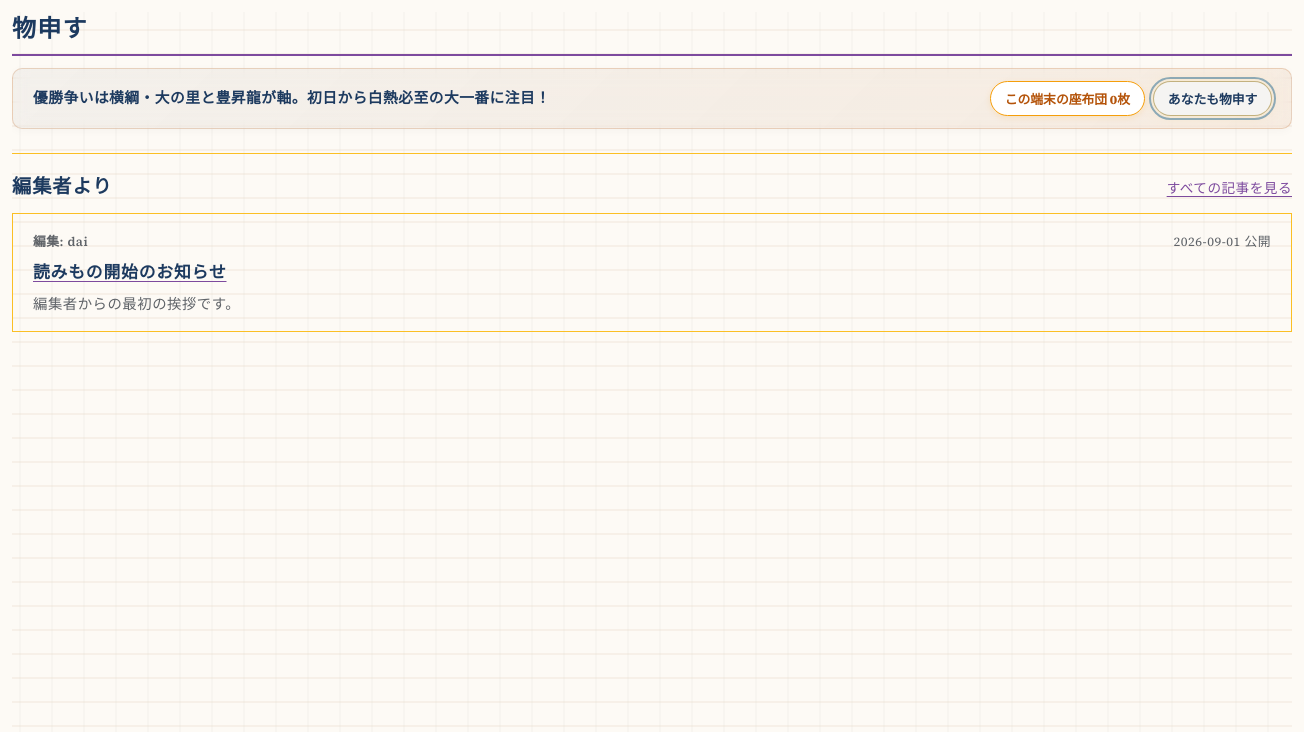
MonomosuSection › connects the disclosure, visible textarea label, and writing hint
Expected: the field labelled "あなたのひとこと" is not shown
Press Enter
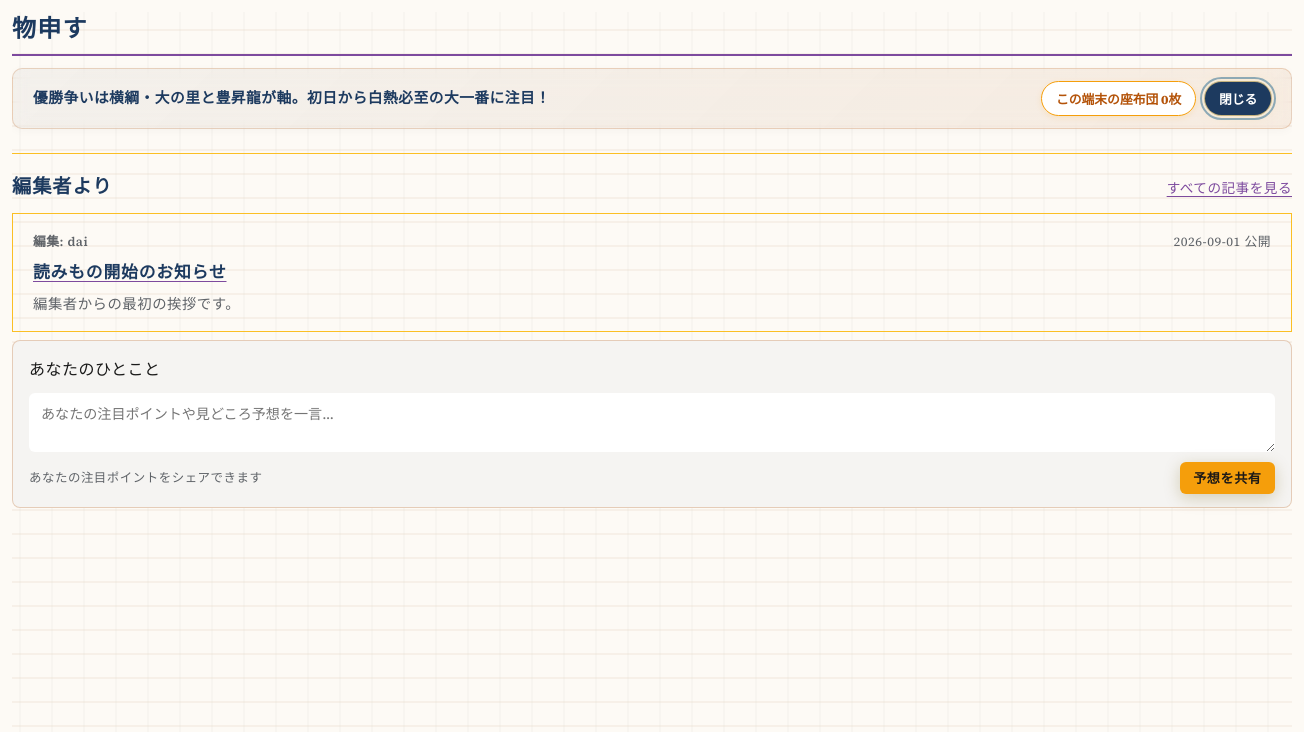
Expected: the text with id "daily-monomosu-hint" shows "注目ポイントをシェア", [29, 469, 262, 486]
In the text box labelled "あなたのひとこと": coordinates (652, 423) [29, 393, 1275, 452], type "結びの一番に注目"
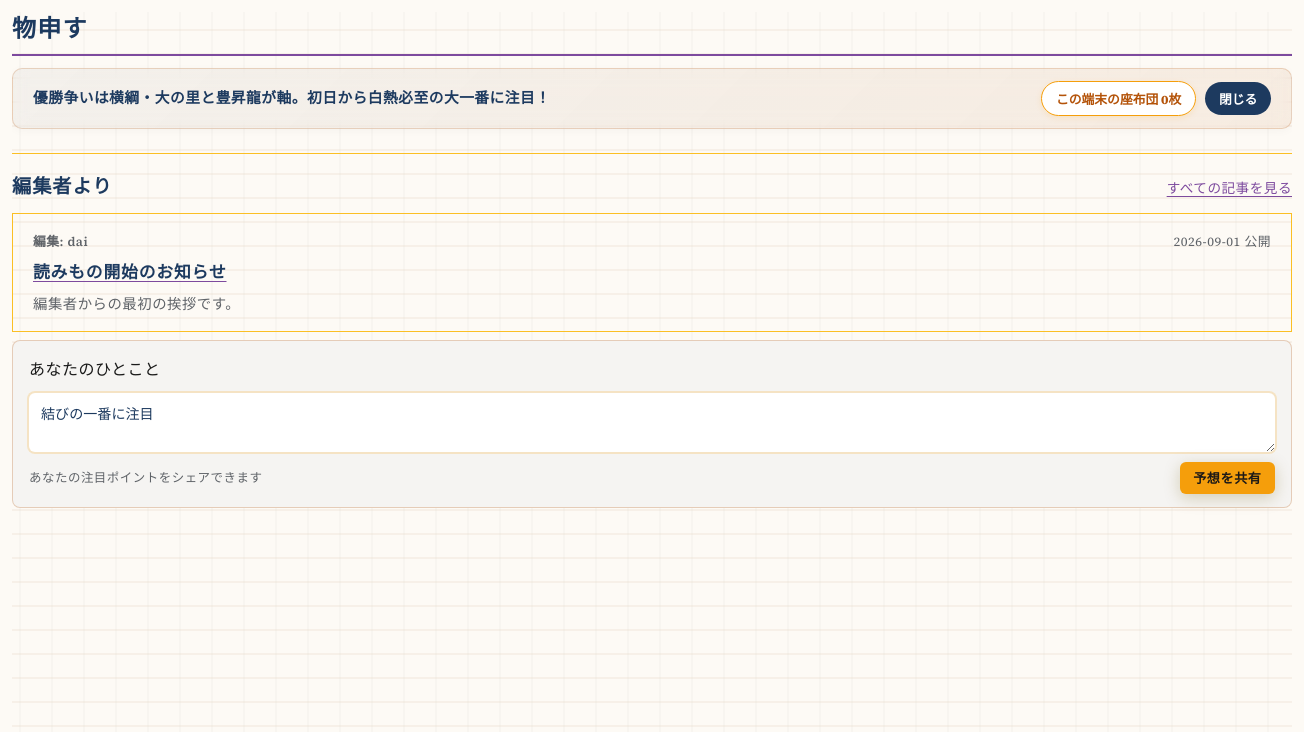
Press Tab
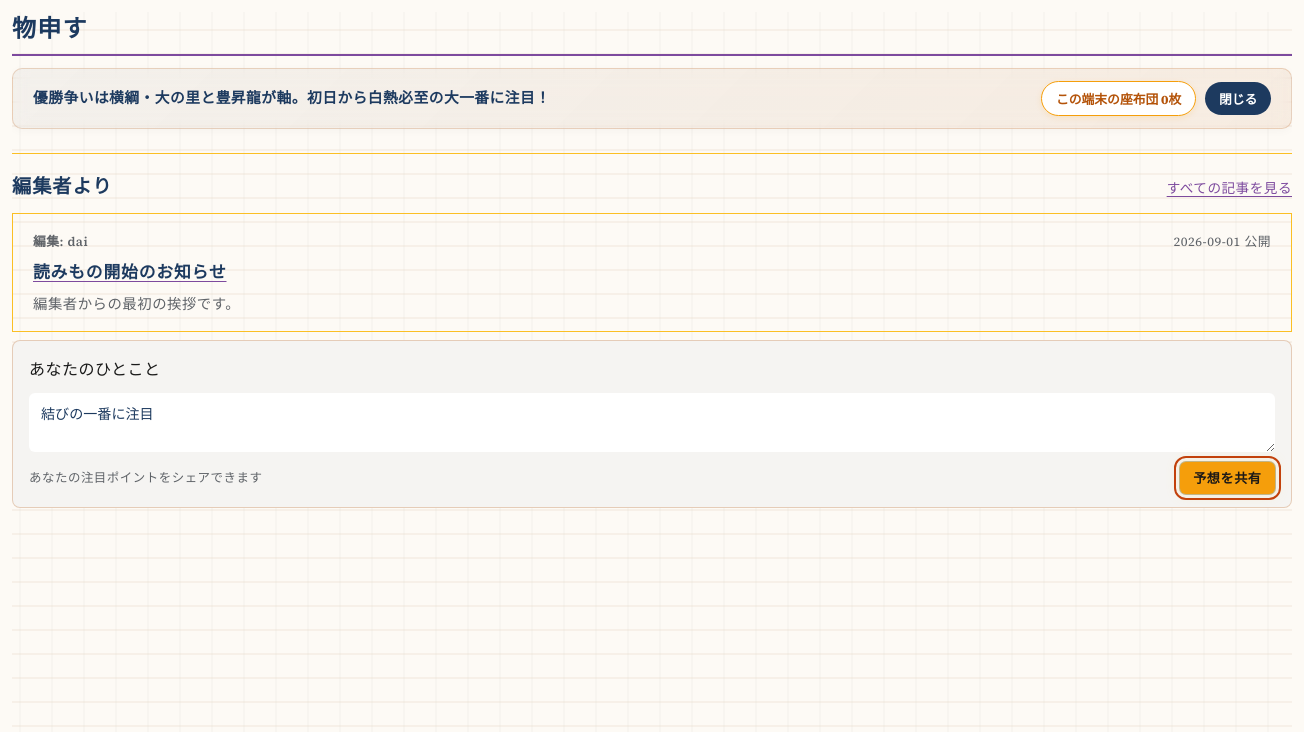
Press Enter
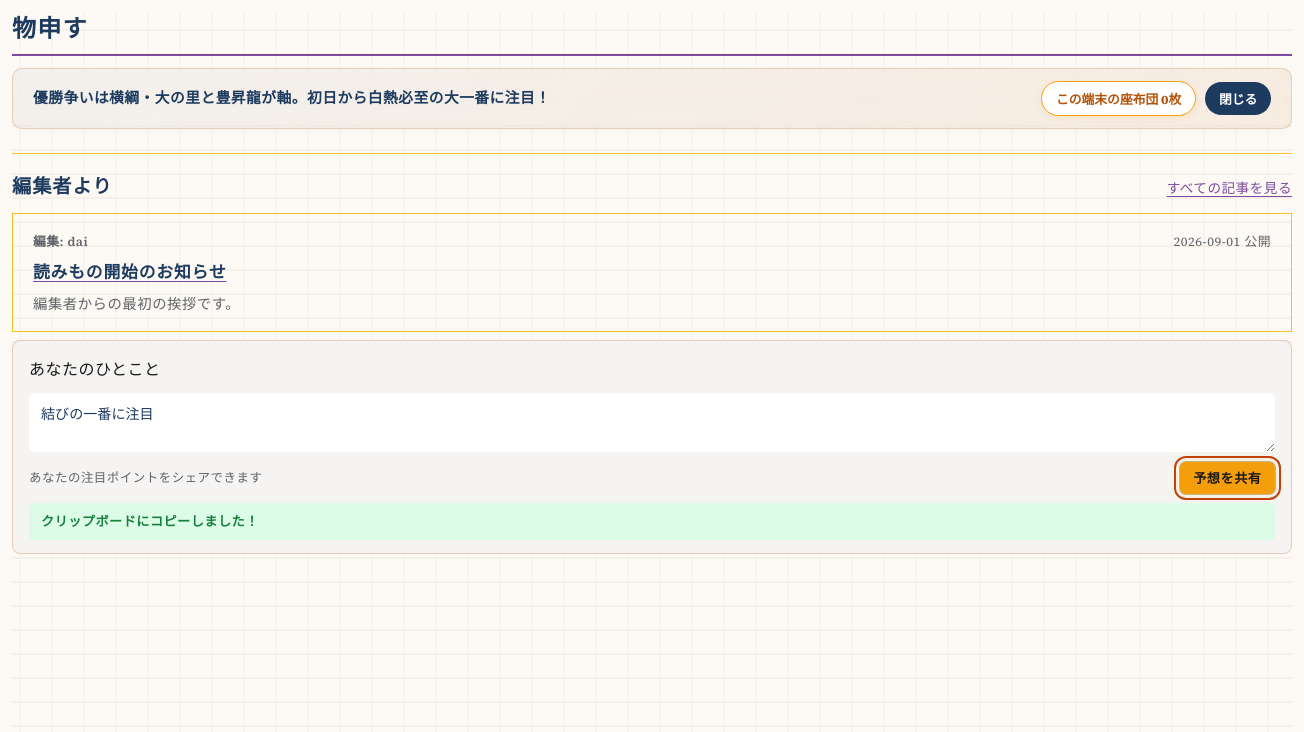
Expected: the message shows "クリップボードにコピーしました", [41, 512, 259, 530]
